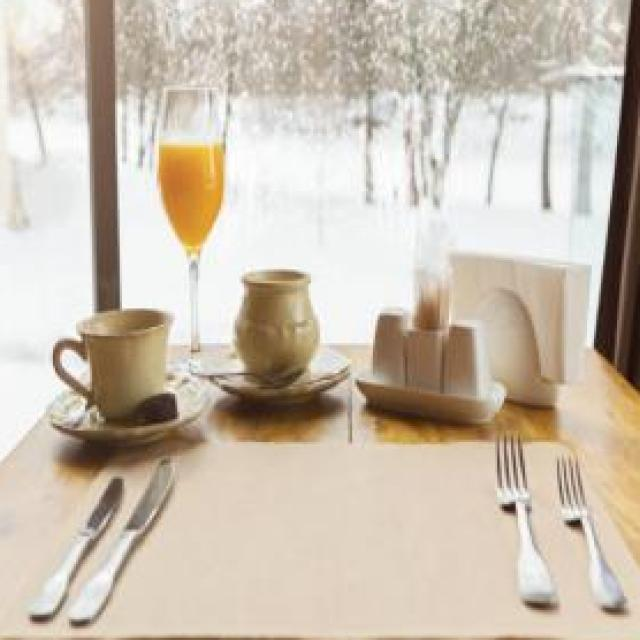knife: (68, 458, 184, 621), (28, 481, 126, 619)
